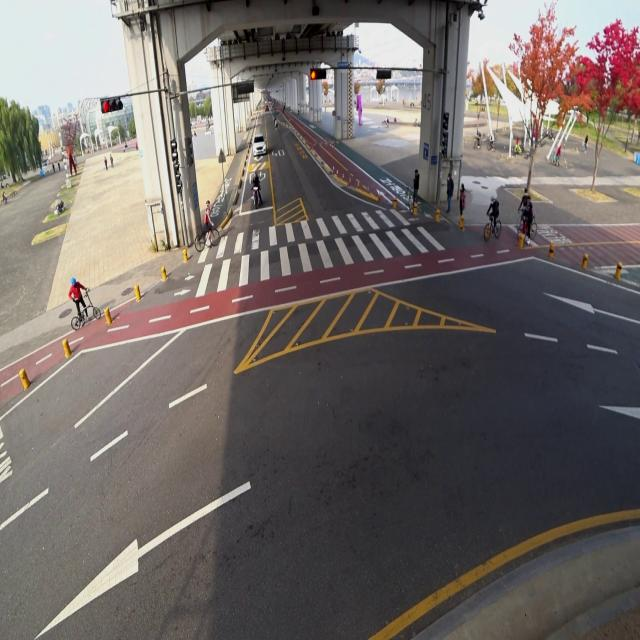Car: (246, 128, 268, 162)
Motorcycle: (250, 170, 264, 208)
